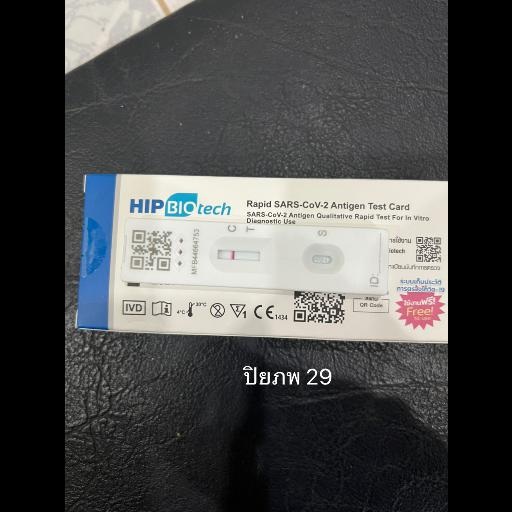Neg: (118, 217, 391, 295)
